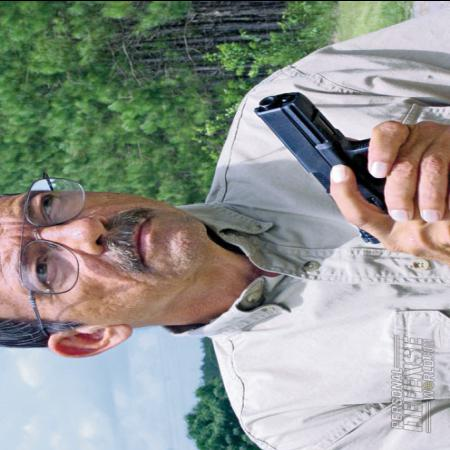Pistol: (252, 92, 399, 222)
